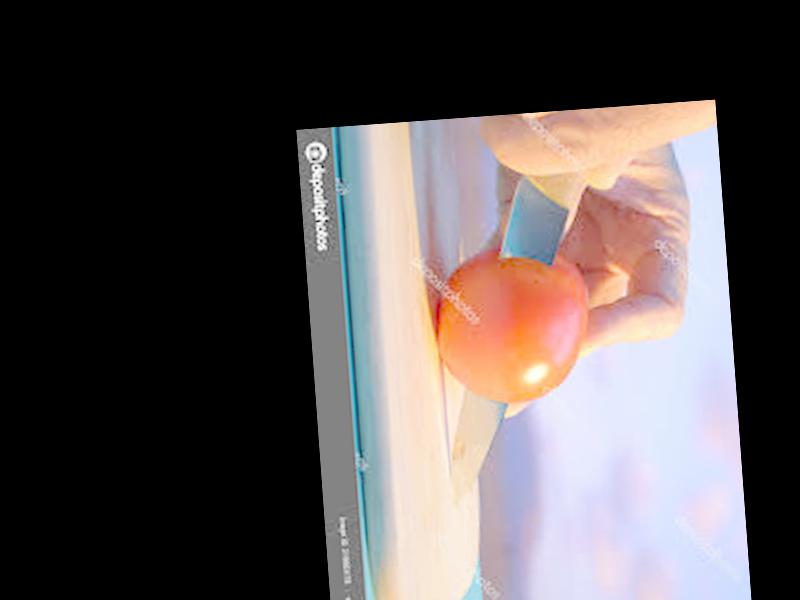Tomato: (428, 241, 593, 410)
